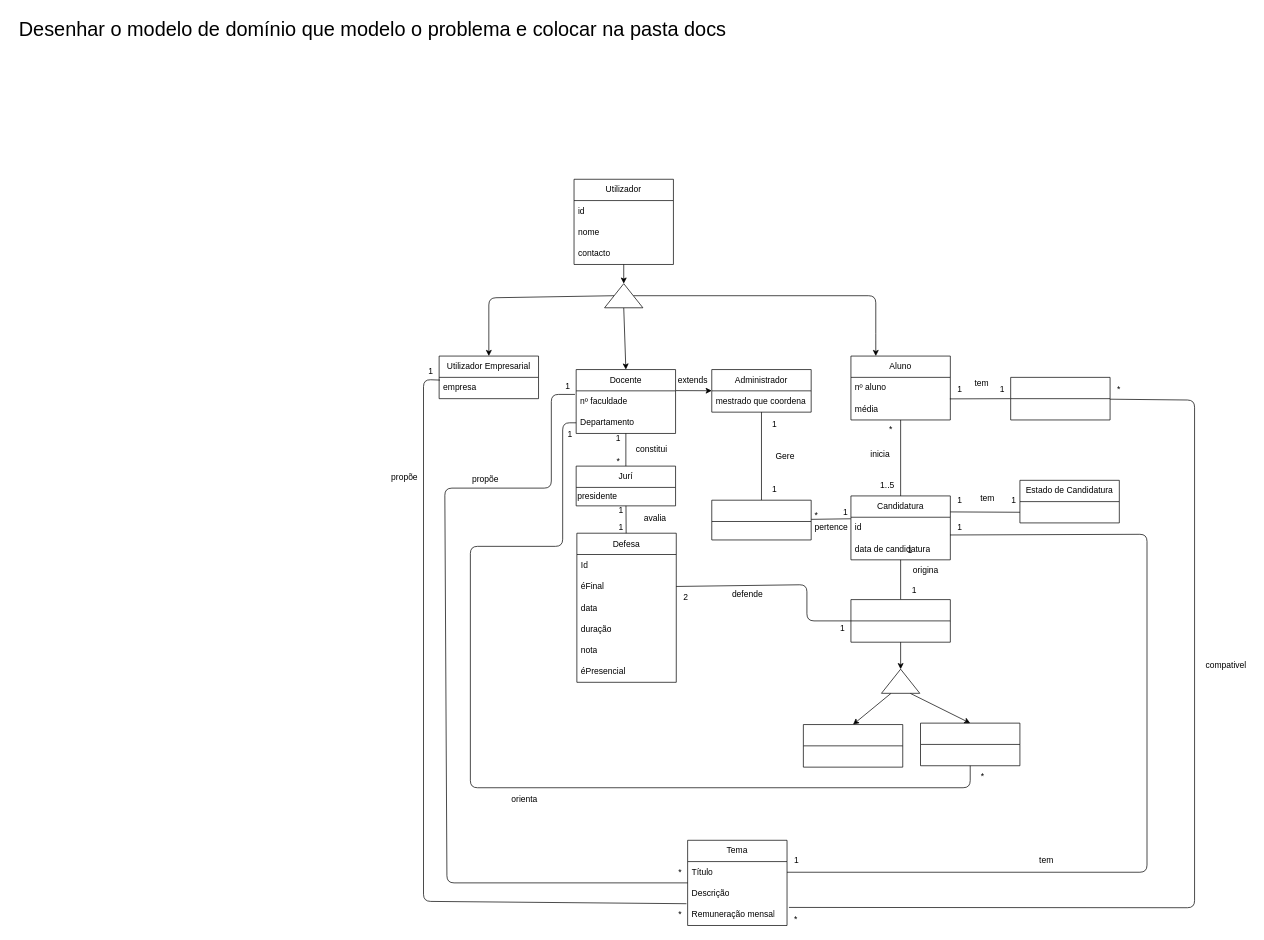
Image size: 1264x940. Some labels were removed from this diagram. Each missing label, with the centre of its shape:
Dissertação: [853,745]
Lista de Candidaturas: [761,519]
Mestrado: [1060,398]
Projeto: [970,744]
Tese: [900,620]
